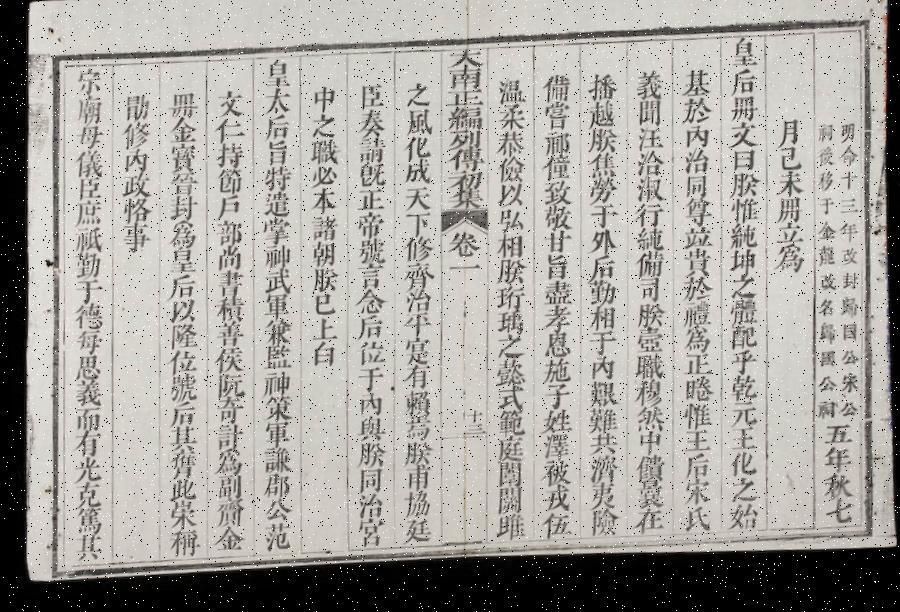c: (726, 44, 760, 80), (678, 74, 714, 108), (116, 222, 152, 256), (443, 235, 481, 267), (162, 448, 197, 482), (584, 78, 620, 111), (770, 253, 805, 286), (163, 374, 199, 406), (164, 144, 200, 176), (628, 488, 665, 519), (397, 267, 434, 298), (164, 90, 199, 122), (162, 500, 197, 532), (161, 530, 198, 560), (632, 76, 665, 109), (257, 523, 290, 556), (540, 78, 572, 112), (350, 521, 384, 553), (490, 364, 525, 395), (583, 461, 618, 492), (630, 461, 665, 492), (209, 499, 244, 530), (66, 480, 102, 510), (535, 466, 571, 496), (678, 383, 714, 413), (676, 309, 712, 339), (676, 410, 712, 440), (628, 387, 664, 417), (582, 387, 618, 417), (816, 482, 852, 512), (722, 512, 758, 542), (818, 508, 854, 538), (69, 301, 105, 331), (70, 66, 106, 96), (70, 148, 106, 178), (214, 89, 246, 122), (494, 81, 527, 113), (72, 94, 105, 126), (260, 60, 293, 92), (678, 257, 712, 288), (353, 113, 387, 144), (678, 206, 712, 237), (305, 217, 339, 248), (582, 489, 616, 520), (67, 532, 102, 562), (67, 454, 102, 484), (492, 264, 527, 294), (68, 378, 103, 408), (678, 106, 713, 136), (256, 448, 291, 478), (582, 414, 618, 443), (209, 348, 245, 377), (68, 252, 104, 281), (443, 112, 483, 138), (540, 108, 572, 140), (399, 342, 432, 373), (211, 220, 244, 251), (724, 383, 757, 414), (260, 89, 294, 119), (118, 122, 152, 152), (536, 440, 570, 470), (351, 444, 385, 474), (257, 220, 291, 250), (350, 292, 384, 322), (724, 308, 758, 338), (537, 364, 571, 394), (583, 516, 617, 546), (164, 221, 198, 251), (165, 118, 199, 148), (398, 240, 433, 269), (629, 361, 664, 390), (817, 456, 852, 485), (208, 450, 243, 479), (163, 248, 198, 277), (209, 424, 244, 453), (209, 398, 244, 427), (676, 514, 711, 543), (257, 371, 292, 400), (66, 429, 102, 457), (306, 142, 342, 170), (444, 72, 484, 97), (444, 154, 484, 179), (119, 93, 151, 124), (402, 112, 434, 143), (494, 162, 526, 193), (259, 320, 292, 350), (726, 130, 759, 160), (585, 108, 618, 138), (726, 180, 759, 210), (493, 136, 526, 166), (352, 215, 385, 245), (631, 258, 664, 288), (352, 242, 385, 272), (71, 198, 104, 228), (726, 104, 759, 134), (677, 335, 711, 364), (538, 338, 572, 367), (630, 335, 664, 364), (258, 422, 292, 451), (676, 487, 710, 516), (163, 349, 197, 378), (677, 461, 711, 490), (536, 491, 570, 520), (210, 322, 244, 351), (67, 506, 102, 534), (677, 285, 712, 313), (117, 198, 152, 226), (536, 414, 571, 442), (538, 287, 573, 315), (535, 518, 570, 546), (490, 519, 525, 547), (117, 173, 152, 201), (164, 196, 199, 224), (724, 485, 756, 515), (352, 418, 384, 448), (772, 180, 804, 210), (632, 157, 664, 187), (444, 53, 484, 77), (398, 494, 430, 524), (306, 344, 338, 374), (259, 193, 292, 222), (585, 185, 618, 214), (494, 110, 527, 139), (70, 226, 103, 255), (352, 344, 385, 373), (491, 415, 524, 444), (69, 352, 102, 381), (397, 418, 430, 447), (259, 167, 292, 196), (163, 275, 196, 304), (723, 459, 756, 488), (630, 414, 664, 442), (258, 246, 292, 274), (724, 258, 758, 286), (352, 141, 386, 169), (258, 398, 292, 426), (210, 298, 244, 326), (491, 292, 525, 320), (538, 312, 572, 340), (585, 134, 619, 162), (538, 212, 572, 240), (399, 191, 433, 219), (538, 162, 572, 190), (208, 475, 242, 503), (209, 527, 243, 555), (724, 411, 758, 439), (164, 324, 198, 352), (72, 122, 106, 150), (258, 270, 292, 298), (163, 425, 198, 452), (817, 431, 852, 458), (677, 361, 712, 388), (628, 516, 663, 543), (210, 120, 246, 146), (356, 85, 386, 116), (539, 260, 570, 290), (772, 206, 804, 235), (726, 206, 758, 235), (398, 393, 430, 422), (632, 310, 664, 339), (306, 190, 338, 219), (350, 496, 382, 525), (727, 78, 759, 107), (68, 405, 101, 433), (70, 328, 103, 356), (211, 272, 244, 300), (584, 287, 617, 315), (398, 444, 431, 472), (259, 346, 292, 374), (631, 184, 664, 212), (539, 187, 572, 215), (353, 166, 386, 194), (396, 522, 429, 550), (211, 374, 244, 402), (443, 135, 483, 158), (584, 160, 618, 187), (630, 210, 664, 237), (399, 165, 433, 192), (256, 475, 290, 502), (677, 436, 711, 463), (162, 403, 197, 429), (402, 85, 432, 115), (492, 491, 522, 521), (726, 283, 757, 312), (585, 262, 617, 290), (398, 368, 430, 396), (492, 340, 524, 368), (307, 270, 339, 298), (352, 318, 384, 346), (212, 144, 244, 172), (212, 170, 244, 198), (586, 236, 618, 264), (538, 390, 570, 418), (259, 294, 291, 322), (260, 116, 292, 144), (492, 240, 524, 268), (400, 140, 432, 168), (774, 128, 802, 160), (492, 442, 524, 470), (352, 370, 384, 398), (165, 172, 198, 199), (399, 317, 432, 344), (164, 300, 197, 327), (491, 391, 524, 418), (491, 316, 524, 343), (351, 269, 384, 296), (69, 278, 103, 304), (256, 499, 290, 525), (584, 439, 618, 465), (444, 176, 484, 198), (444, 93, 482, 116), (308, 88, 338, 117), (680, 157, 710, 186), (212, 246, 243, 274), (307, 116, 338, 144), (633, 134, 664, 162), (633, 108, 664, 136), (212, 196, 243, 224), (724, 435, 756, 462), (725, 335, 757, 362), (540, 138, 572, 165), (584, 313, 616, 340), (632, 235, 664, 262), (306, 245, 338, 272), (726, 233, 758, 260), (306, 319, 338, 346), (584, 338, 616, 365), (118, 149, 150, 176), (586, 211, 618, 238), (352, 192, 385, 218), (71, 176, 104, 202), (399, 294, 432, 320), (678, 235, 712, 260), (260, 142, 290, 170), (352, 394, 382, 422), (680, 133, 711, 160), (725, 359, 756, 386), (585, 363, 616, 390), (399, 469, 430, 496), (352, 472, 383, 499), (164, 477, 196, 503), (540, 237, 572, 263), (306, 168, 338, 194), (726, 158, 758, 184), (400, 216, 432, 242), (633, 285, 662, 313), (494, 189, 524, 216), (494, 214, 524, 241), (444, 266, 480, 288), (680, 183, 709, 210), (775, 157, 804, 184), (492, 467, 521, 494), (632, 437, 662, 463), (308, 296, 336, 322), (446, 196, 482, 216), (772, 233, 802, 256), (814, 254, 836, 280), (834, 157, 858, 180), (814, 332, 837, 356), (836, 232, 860, 255), (836, 382, 859, 406), (836, 306, 858, 331), (834, 206, 858, 228), (812, 408, 834, 432), (836, 132, 858, 156), (812, 206, 834, 230), (836, 180, 858, 204), (814, 384, 837, 406), (814, 157, 836, 180), (813, 180, 834, 204), (814, 358, 836, 380), (814, 232, 836, 254), (837, 256, 859, 278), (837, 332, 858, 355), (814, 132, 834, 156), (836, 409, 857, 431), (836, 358, 858, 378), (814, 308, 834, 330), (816, 284, 837, 304), (838, 282, 858, 302), (461, 413, 482, 431), (461, 427, 481, 442)
